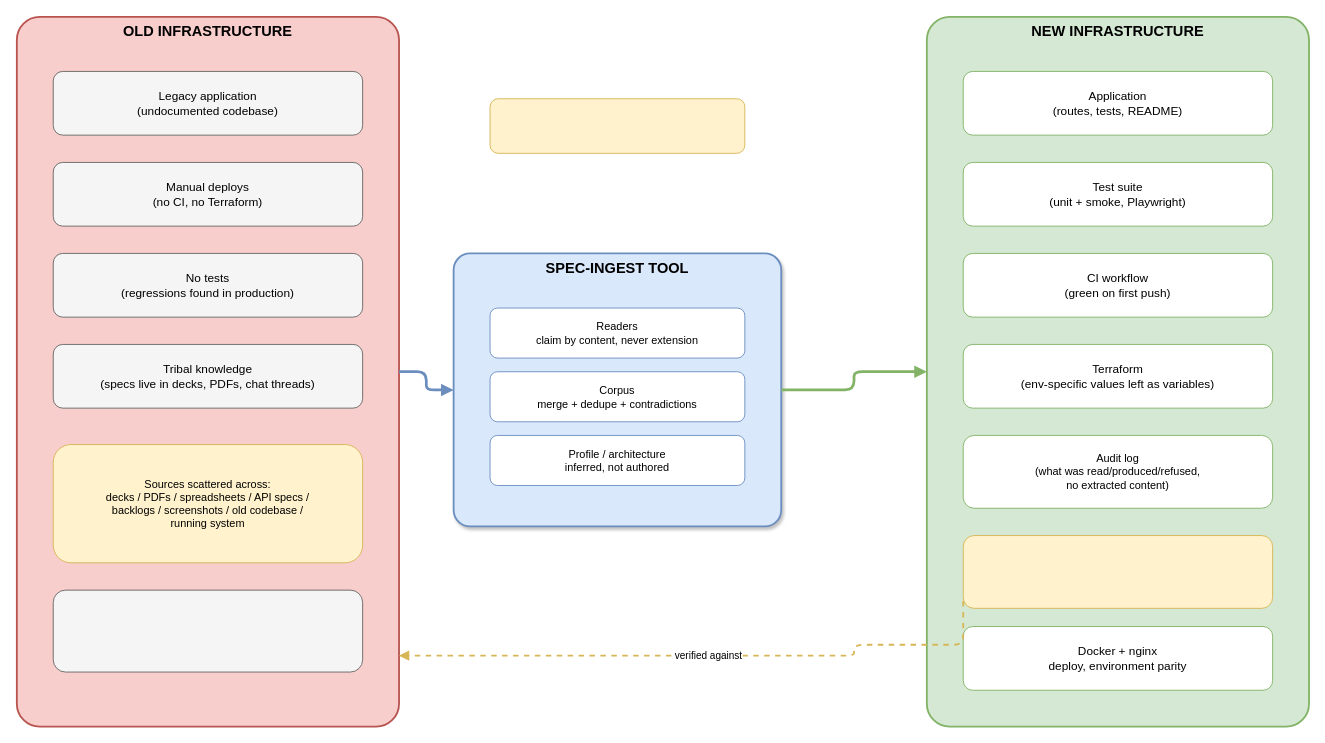
The diagram is 1325 pixels wide and 743 high, and some of its shapes have lost their labels. Each missing label, with the centre of its shape:
Deployed on: hand-configured servers, no environment parity: [207,630]
No model / provider SDK / API key ships in generated output: [617,125]
Parity harness (twinning.mjs proves the rebuild behaves like what it replaced): [1117,571]
